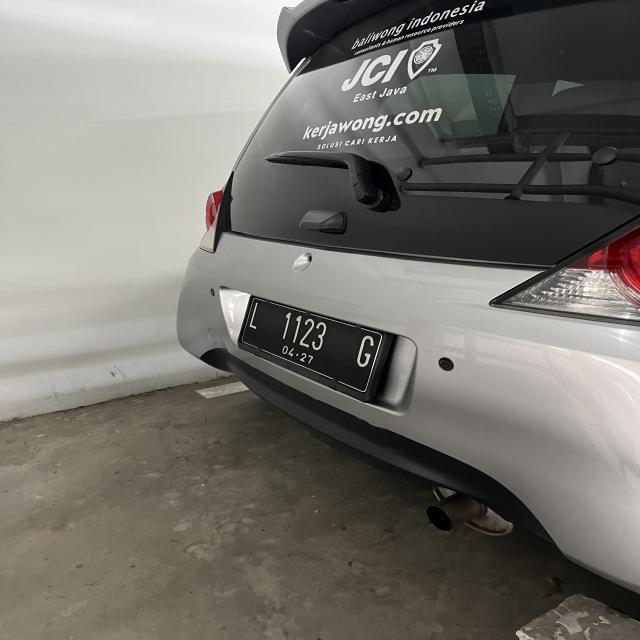1: (282, 309, 290, 341), (292, 312, 300, 342)
2: (301, 316, 313, 348)
3: (315, 320, 327, 352)
G: (356, 334, 375, 367)
L: (250, 300, 260, 332)
